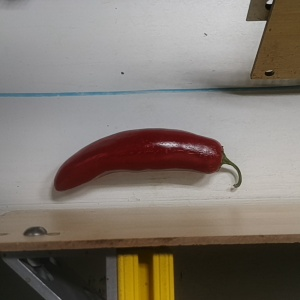Cut Point: (207, 136, 232, 176)
